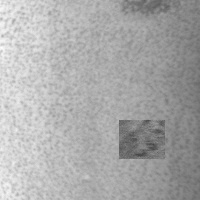pitted_surface: (1, 1, 197, 198)
rolled-in_scale: (119, 120, 165, 159)
